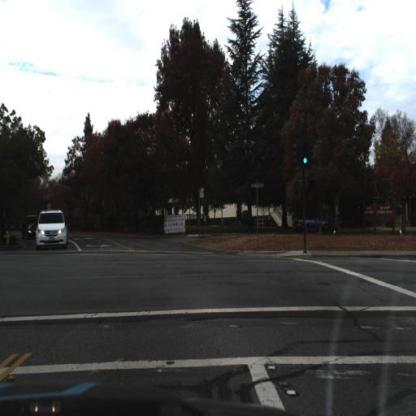car: (32, 208, 70, 250), (294, 210, 334, 231), (20, 212, 38, 242)
trafficLight-Green: (302, 139, 308, 166)
